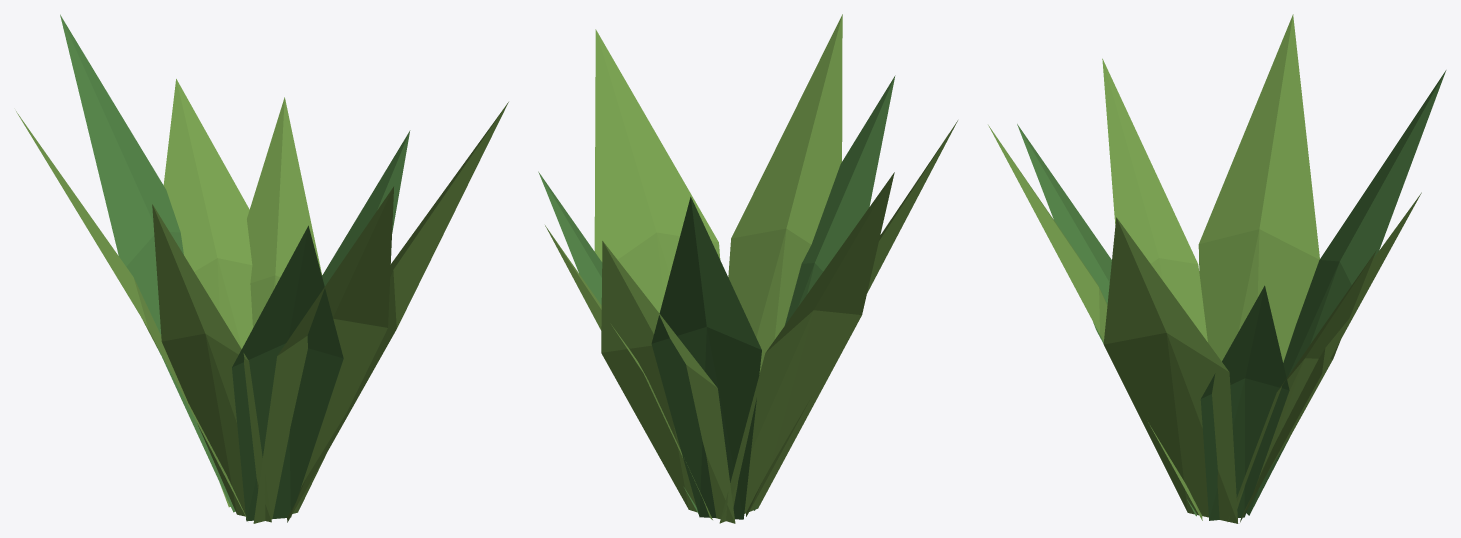
Rendered from grass_clump_large_01.glb.
3 renders of one model, left to right at view 1: azimuth 30°, elevation 25°; view 2: azimuth 150°, elevation 25°; view 3: azimuth 270°, elevation 25°, orthographic. The views are drawn at different scales.
Visible parts, largest first — view 1: grass_clump_large_01; view 2: grass_clump_large_01; view 3: grass_clump_large_01.
Part boxes in pixels (x1,y1,x2,y2): grass_clump_large_01: [16, 14, 508, 523]; grass_clump_large_01: [538, 14, 957, 523]; grass_clump_large_01: [988, 14, 1446, 523].
Bounding box in the file's own units: 0.6055 × 0.62 × 0.6408.
